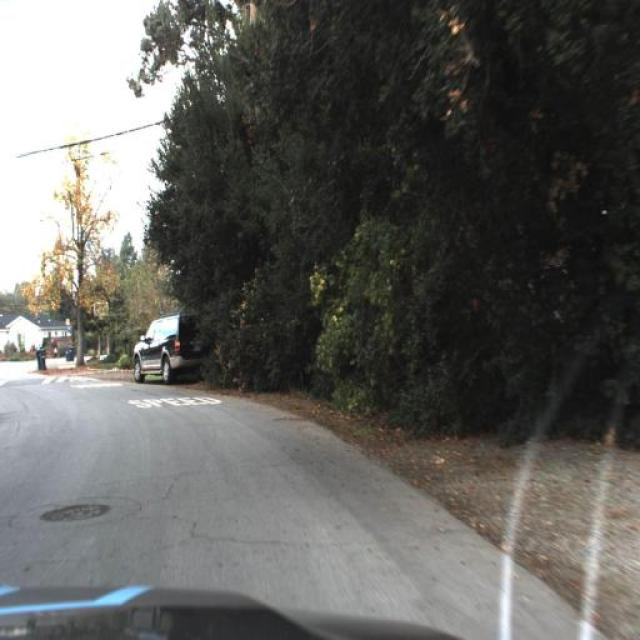car: (125, 310, 210, 398)
